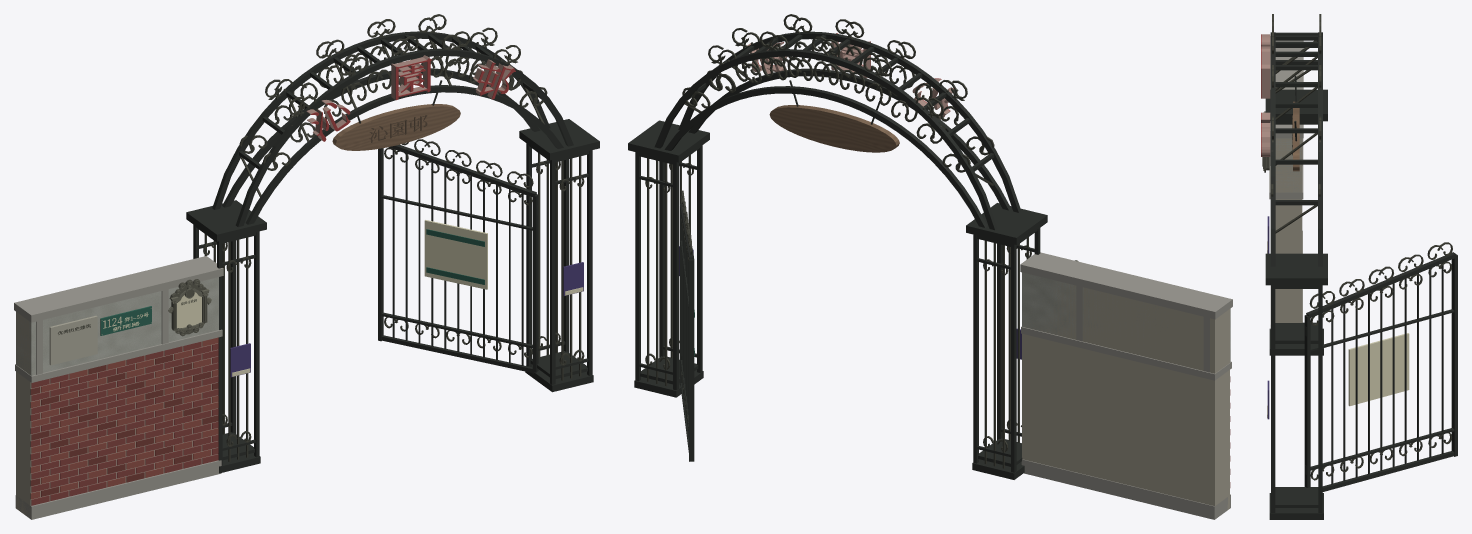
File: jingan-qinyuan-lane-entrance-lod.glb
The picture shows the model from 3 angles, left to right: view 1: azimuth 30°, elevation 25°; view 2: azimuth 150°, elevation 25°; view 3: azimuth 270°, elevation 25°; orthographic projection.
Parts seen in each view (by area): view 1: 沁园邨新闸路总弄铁艺拱门与西侧铭牌墙; view 2: 沁园邨新闸路总弄铁艺拱门与西侧铭牌墙; view 3: 沁园邨新闸路总弄铁艺拱门与西侧铭牌墙.
Boxes of the visible parts, left/top/right/bottom form: 沁园邨新闸路总弄铁艺拱门与西侧铭牌墙: left=14, top=14, right=599, bottom=519; 沁园邨新闸路总弄铁艺拱门与西侧铭牌墙: left=628, top=14, right=1232, bottom=519; 沁园邨新闸路总弄铁艺拱门与西侧铭牌墙: left=1261, top=14, right=1457, bottom=519.
Bounding box in the file's own units: 6.71 × 4.41 × 2.
Materials: 19 (2 with a texture image).
